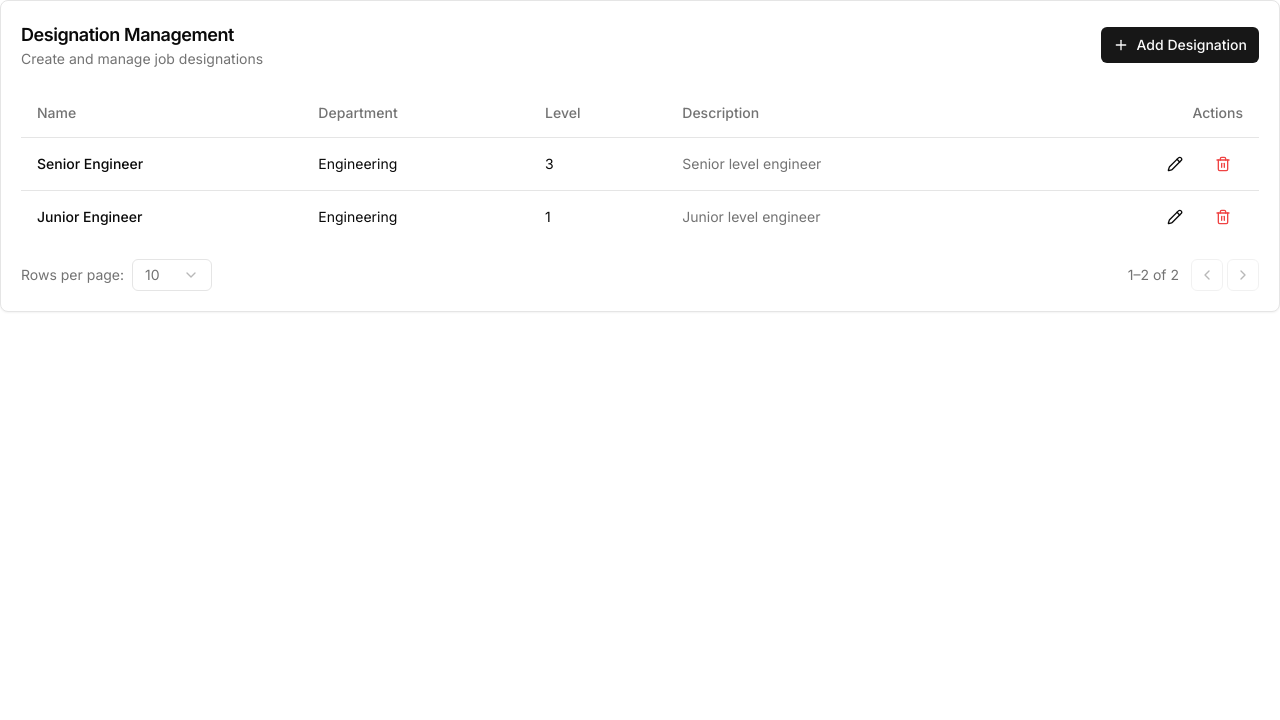
Test: DesignationManagement Component › opens dialog to create new designation
Expected: the text "Senior Engineer" is shown, [21,137,302,190]
Click the button "Add Designation" at (1180, 45), box [1100,27,1259,63]
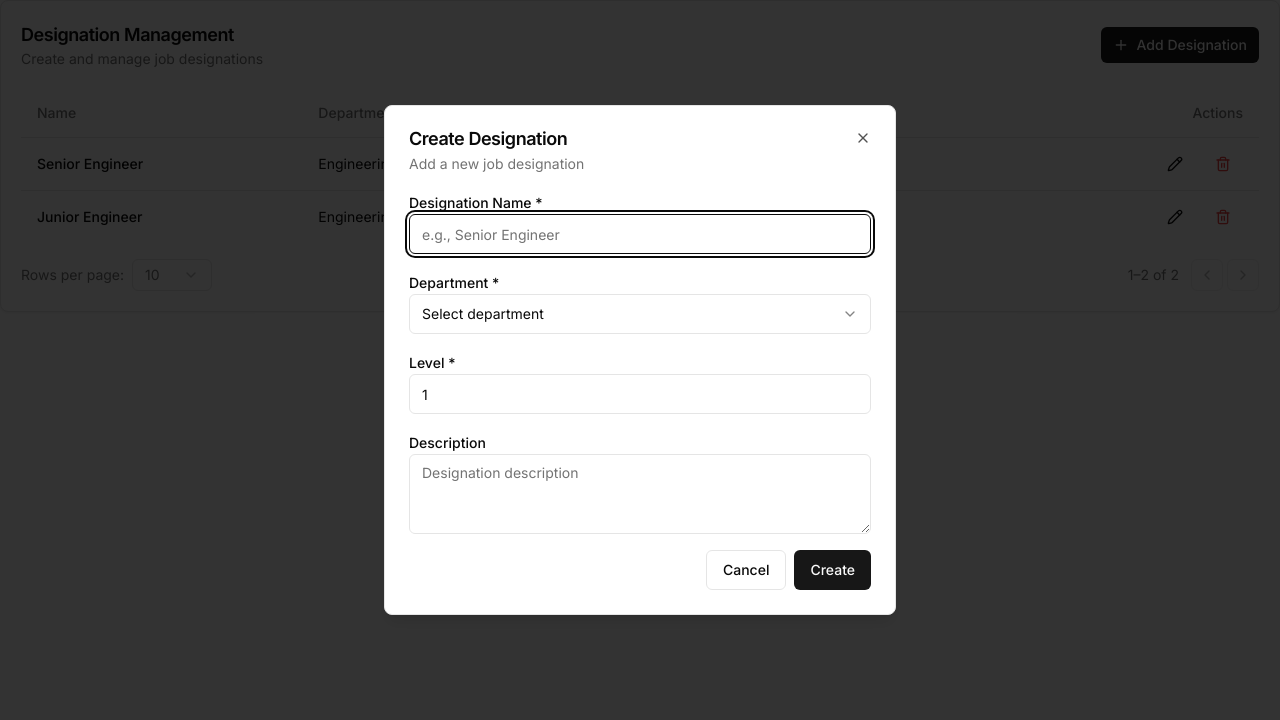
Now the heading "Create Designation" is shown, box [409,128,567,149]
